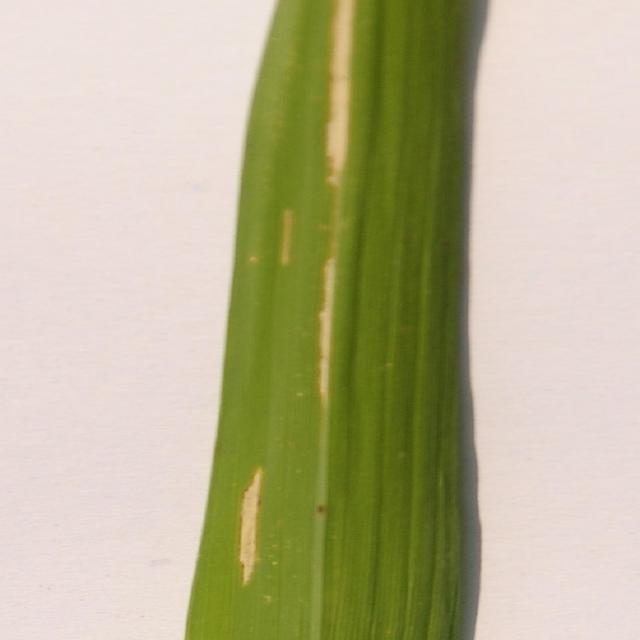leaf blight: (294, 2, 374, 402), (224, 449, 282, 590)
